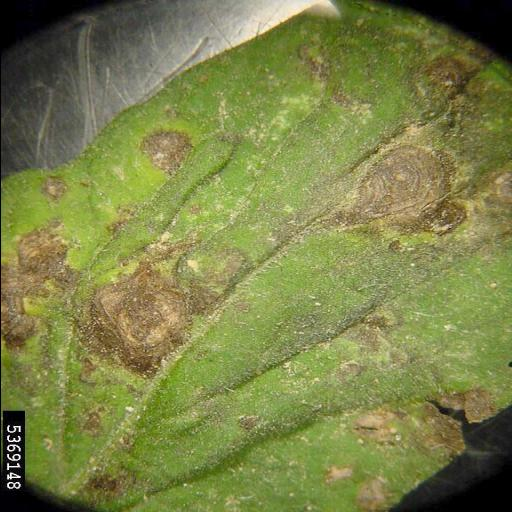Early Blight: (0, 6, 510, 512)
